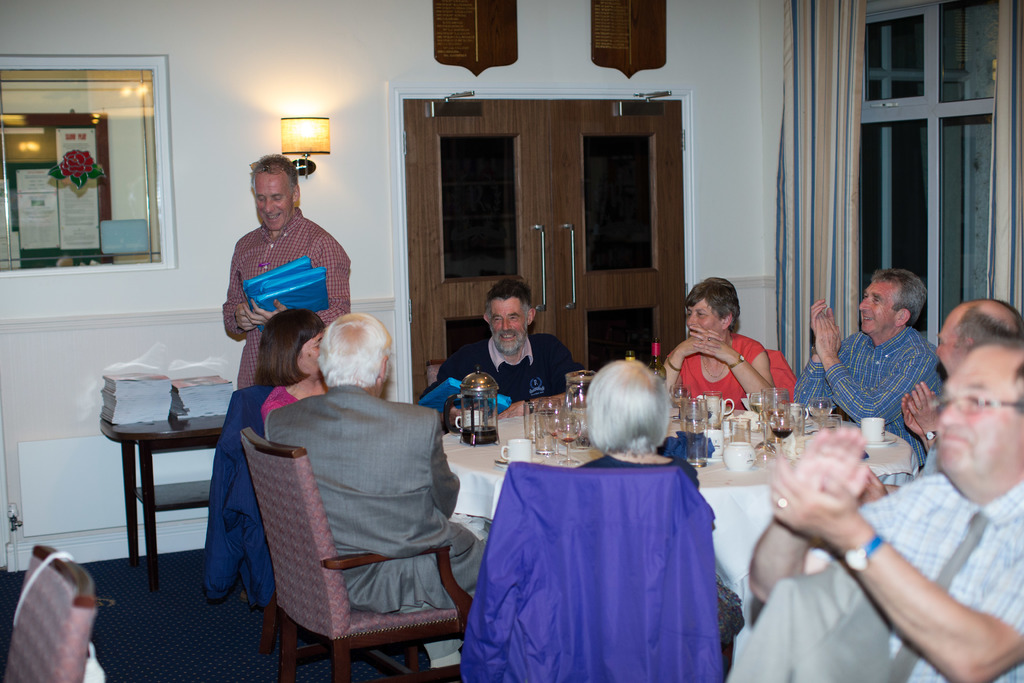Table: (451, 391, 919, 628), (102, 407, 227, 586)
